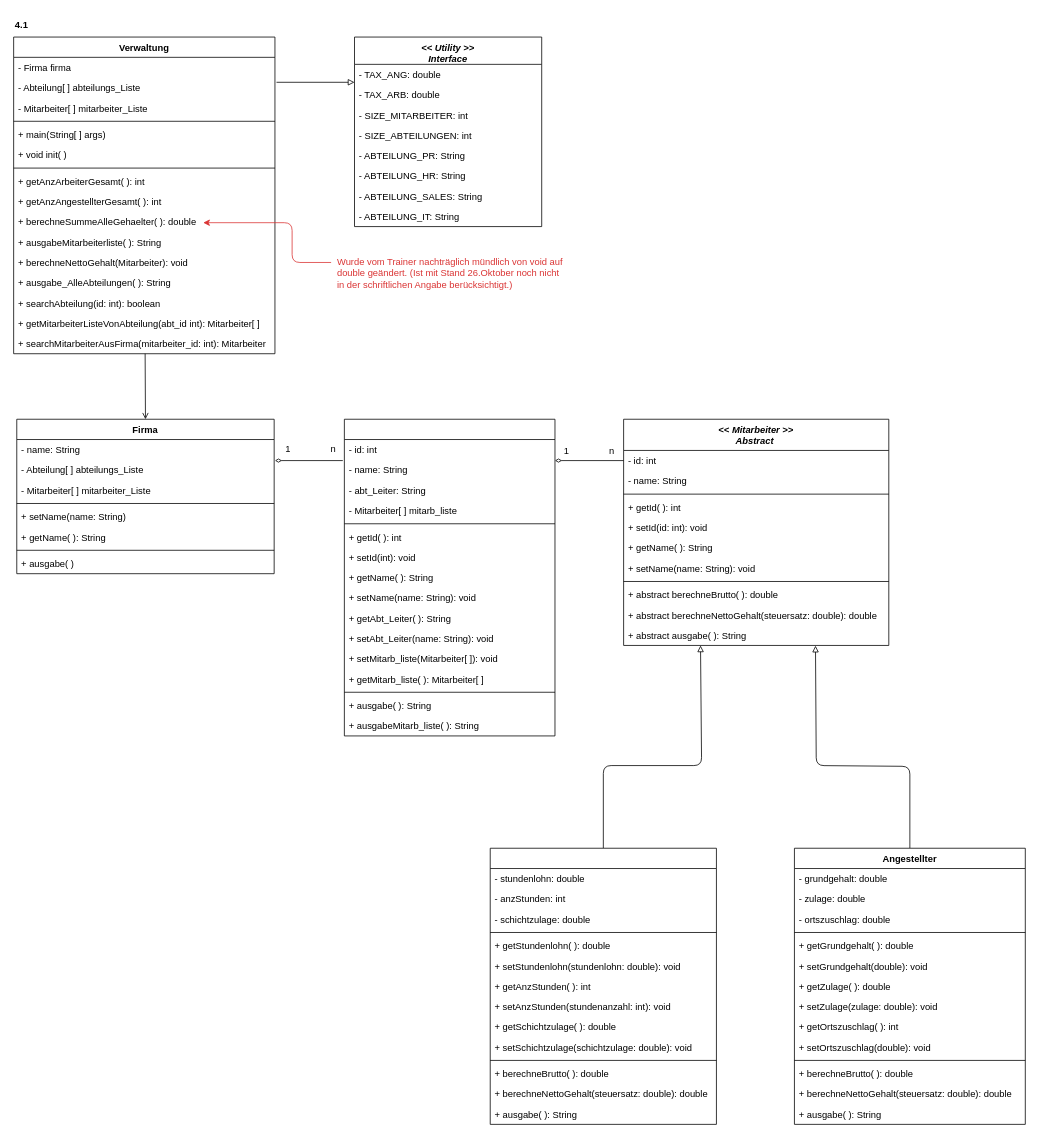
The diagram is 1039 pixels wide and 1140 high, and some of its shapes have lost their labels. The shapes that lost their labels are listed below. From the top down, each one's box as (x1, y1, x2, y2) in pixels, then its label:
(344, 418, 555, 736): Abteilung
(489, 847, 716, 1124): Arbeiter
